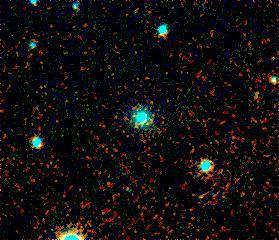star: (242, 79, 272, 109)
